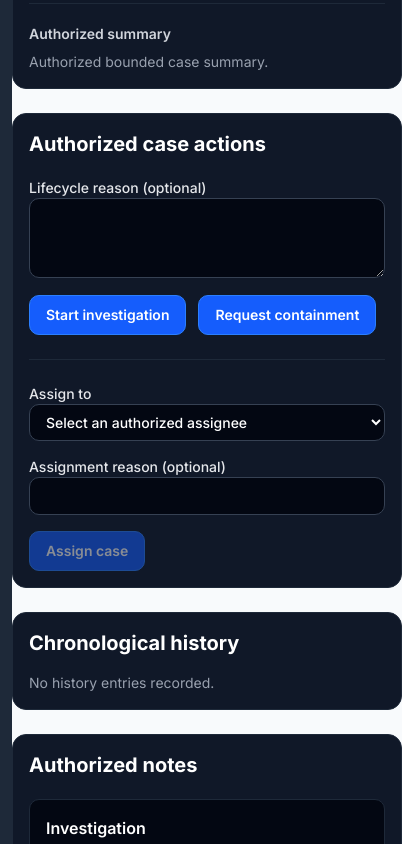
Gate 4F Slice C5: authenticated incident-case management UI › 18. supervisor assignment submits a valid selected user without changing status
(page scrolled)
Select "Sam Responder" in the dropdown labelled "Assign to". click: (207,422)
box: top-left (29, 404), bottom-right (385, 441)
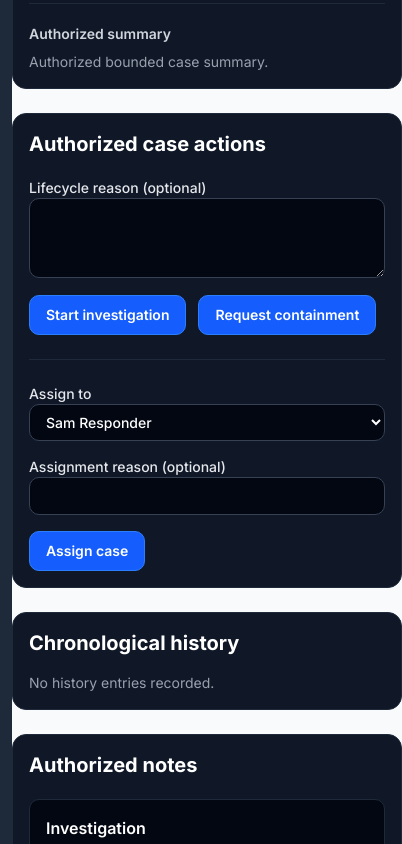
Click the button "Assign case". click: (87,551)
box: top-left (29, 531), bottom-right (145, 571)
(page scrolled)
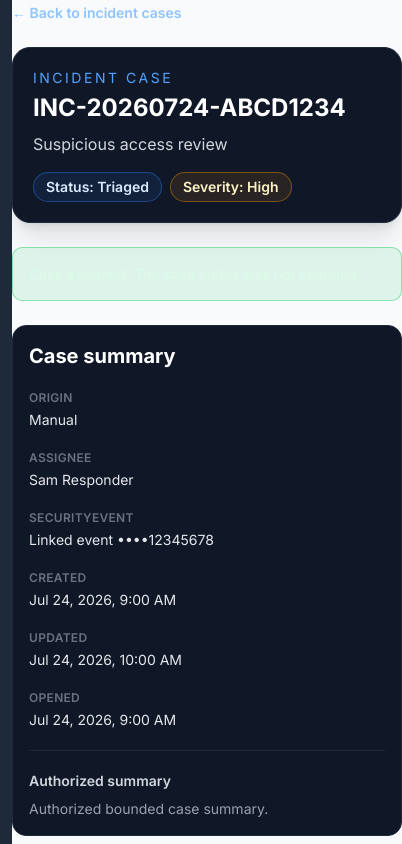
Check: the text "Case assigned. The case status was not changed." is shown, box top-left (12, 247), bottom-right (401, 301)
